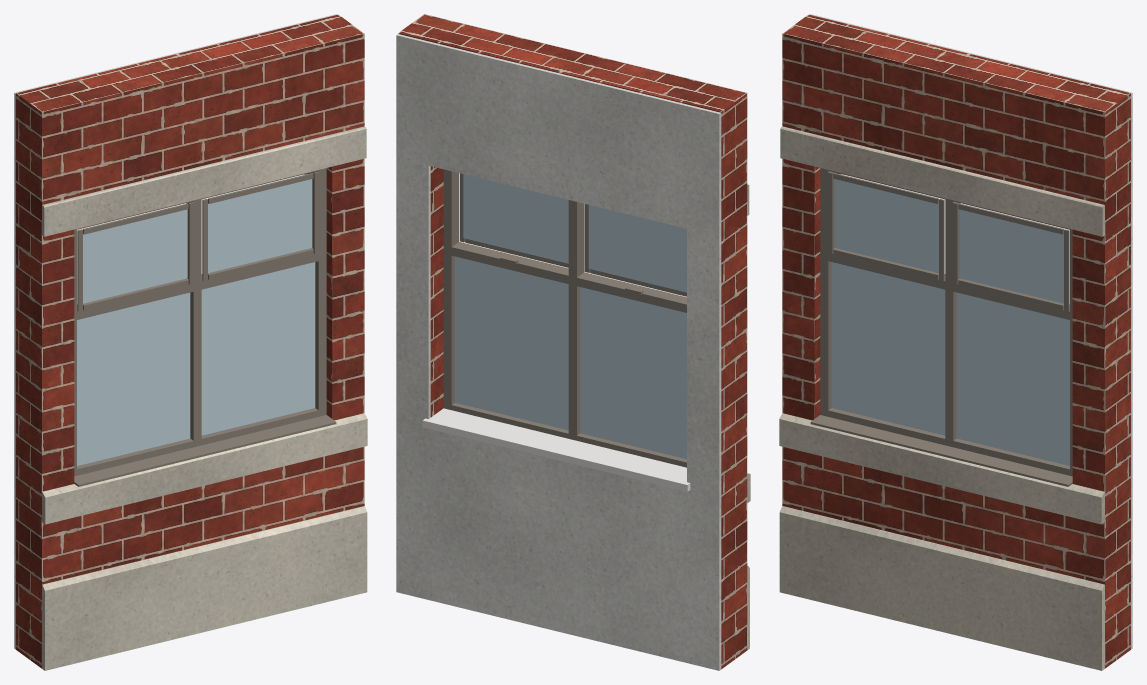
File: w_g_win.glb
3 renders of one model, left to right at view 1: azimuth 30°, elevation 25°; view 2: azimuth 150°, elevation 25°; view 3: azimuth 330°, elevation 25°, orthographic.
Visible parts, largest first — view 1: w_g_win_brick, w_g_win_precast, w_g_win_glass, w_g_win_alu, w_g_win_plaster; view 2: w_g_win_plaster, w_g_win_glass, w_g_win_brick, w_g_win_alu, w_g_win_trim; view 3: w_g_win_brick, w_g_win_precast, w_g_win_glass, w_g_win_alu, w_g_win_plaster.
Boxes of the visible parts, x1=… form: w_g_win_brick: x1=16, y1=14, x2=364, y2=668; w_g_win_precast: x1=42, y1=126, x2=367, y2=670; w_g_win_glass: x1=77, y1=179, x2=315, y2=465; w_g_win_alu: x1=74, y1=168, x2=336, y2=486; w_g_win_plaster: x1=14, y1=14, x2=337, y2=649; w_g_win_plaster: x1=396, y1=34, x2=721, y2=670; w_g_win_glass: x1=455, y1=174, x2=686, y2=459; w_g_win_brick: x1=398, y1=14, x2=747, y2=669; w_g_win_alu: x1=443, y1=169, x2=686, y2=467; w_g_win_trim: x1=422, y1=408, x2=690, y2=491; w_g_win_brick: x1=782, y1=14, x2=1130, y2=668; w_g_win_precast: x1=779, y1=126, x2=1104, y2=670; w_g_win_glass: x1=831, y1=179, x2=1069, y2=465; w_g_win_alu: x1=810, y1=168, x2=1072, y2=486; w_g_win_plaster: x1=809, y1=14, x2=1132, y2=649.
Size of the model in its own units: 2 by 3.3 by 0.375.
6 materials, 3 textured.
